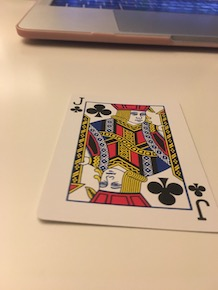JackOfClubs: (31, 88, 218, 239)
